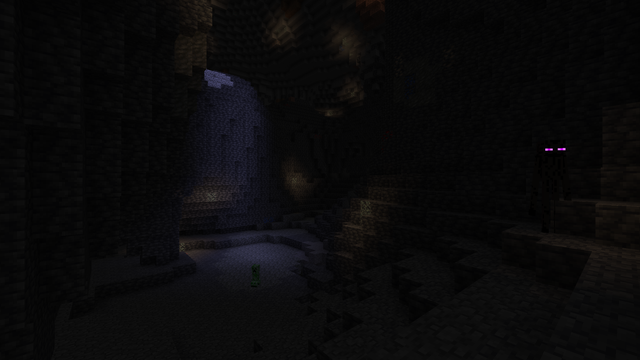creepers: (250, 262, 260, 286)
endermens: (535, 135, 564, 234)
